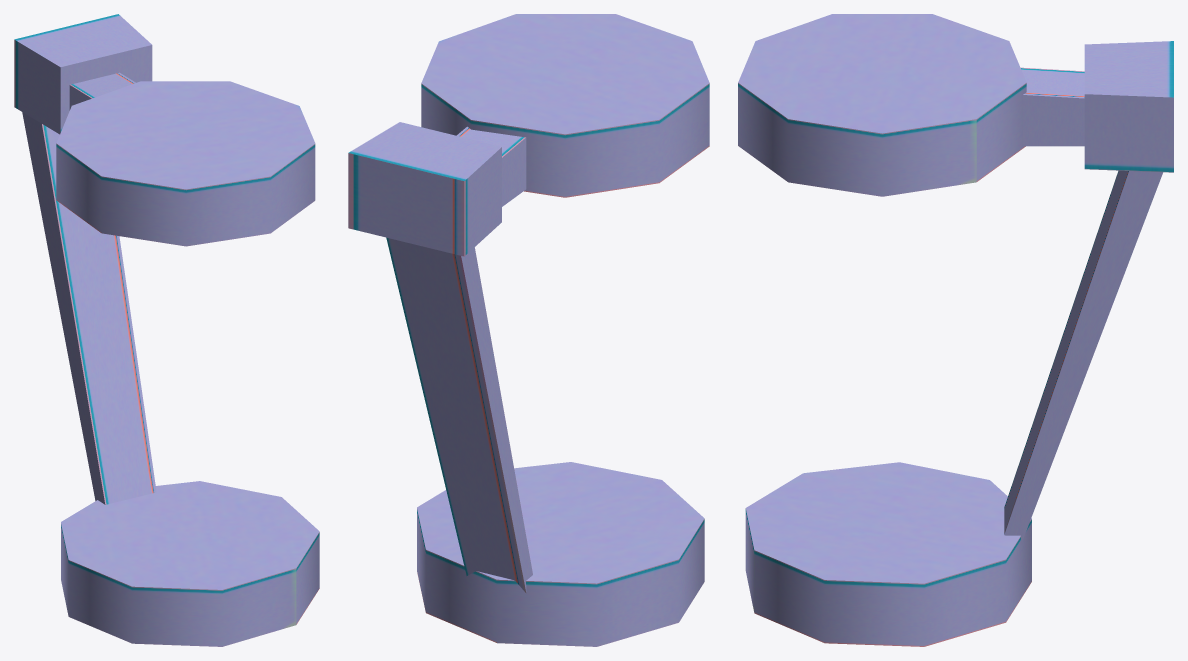
File: LitFloodLightFastA1.fbx
3 views of the same model, side by side, from view 1: azimuth 30°, elevation 25°; view 2: azimuth 150°, elevation 25°; view 3: azimuth 270°, elevation 25° (orthographic). The views are drawn at different scales.
Parts seen in each view (by area): view 1: LitFloodLightFastA1; view 2: LitFloodLightFastA1; view 3: LitFloodLightFastA1.
Part boxes in pixels (x1,y1,x2,y2): LitFloodLightFastA1: [14, 14, 319, 646]; LitFloodLightFastA1: [348, 14, 709, 646]; LitFloodLightFastA1: [738, 14, 1173, 646].
Size of the model in its own units: 32.8 by 65.7 by 49.72.
1 material, 1 textured.
